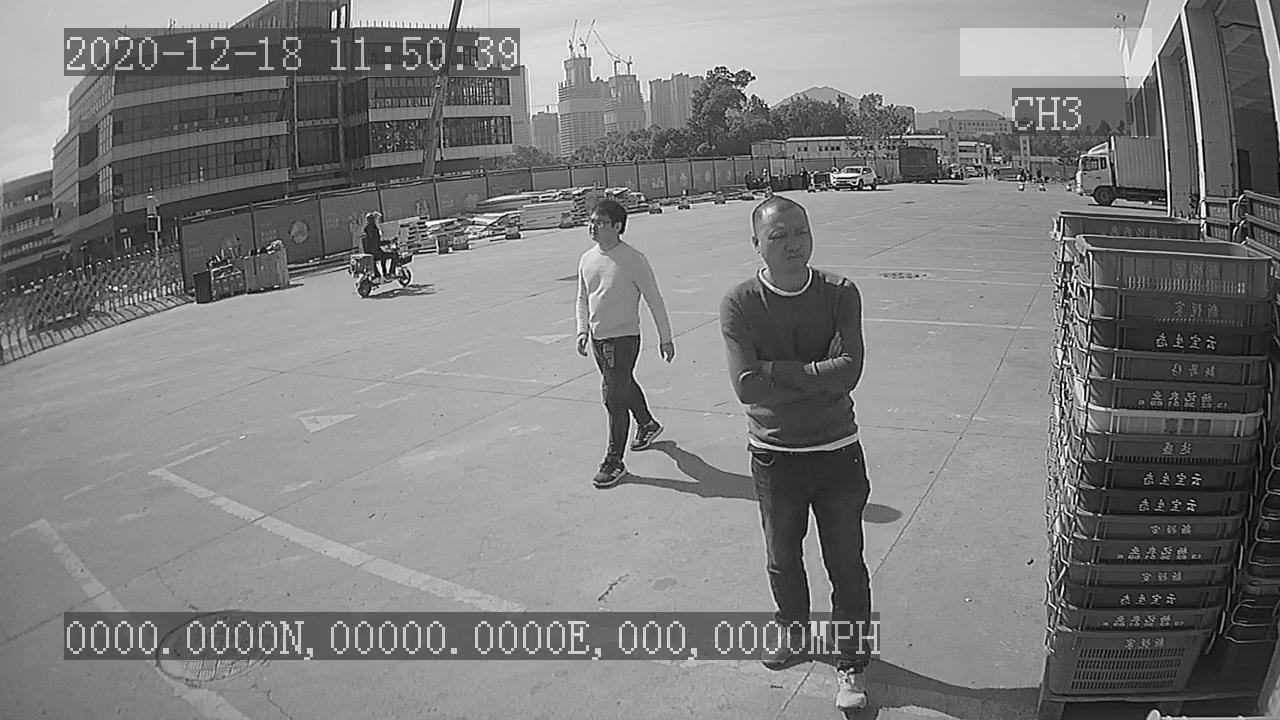person: (565, 199, 679, 492)
